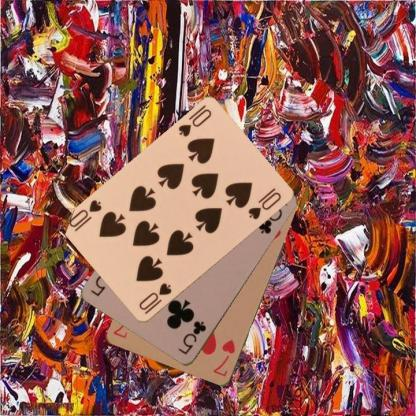10s: (175, 106, 213, 139), (136, 280, 173, 312)
5c: (175, 318, 208, 356)
7h: (209, 337, 237, 378)
